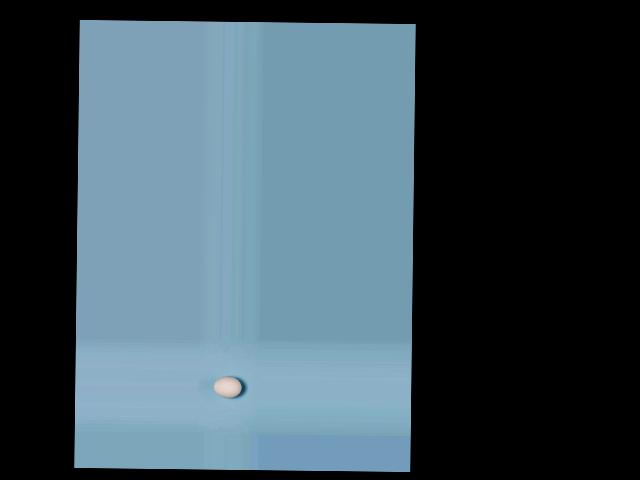egg: (213, 376, 242, 398)
